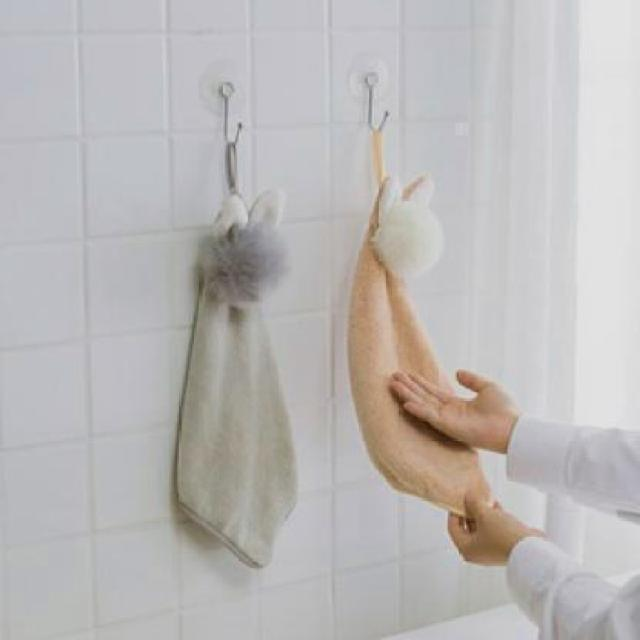hand_noglove: (390, 365, 521, 452), (439, 493, 528, 570)
